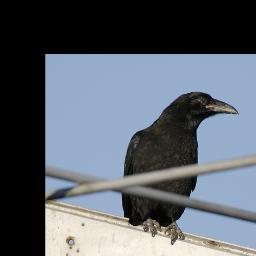Crow: (119, 90, 240, 244)
